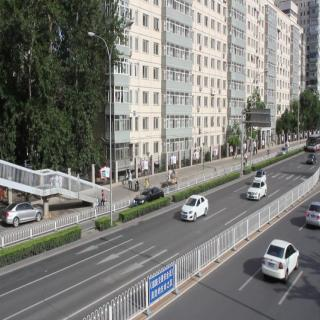Car: (264, 234, 296, 282), (2, 200, 52, 227), (131, 181, 167, 218), (179, 192, 215, 228), (248, 177, 268, 214), (301, 197, 320, 232), (302, 151, 318, 173), (254, 167, 272, 184)
